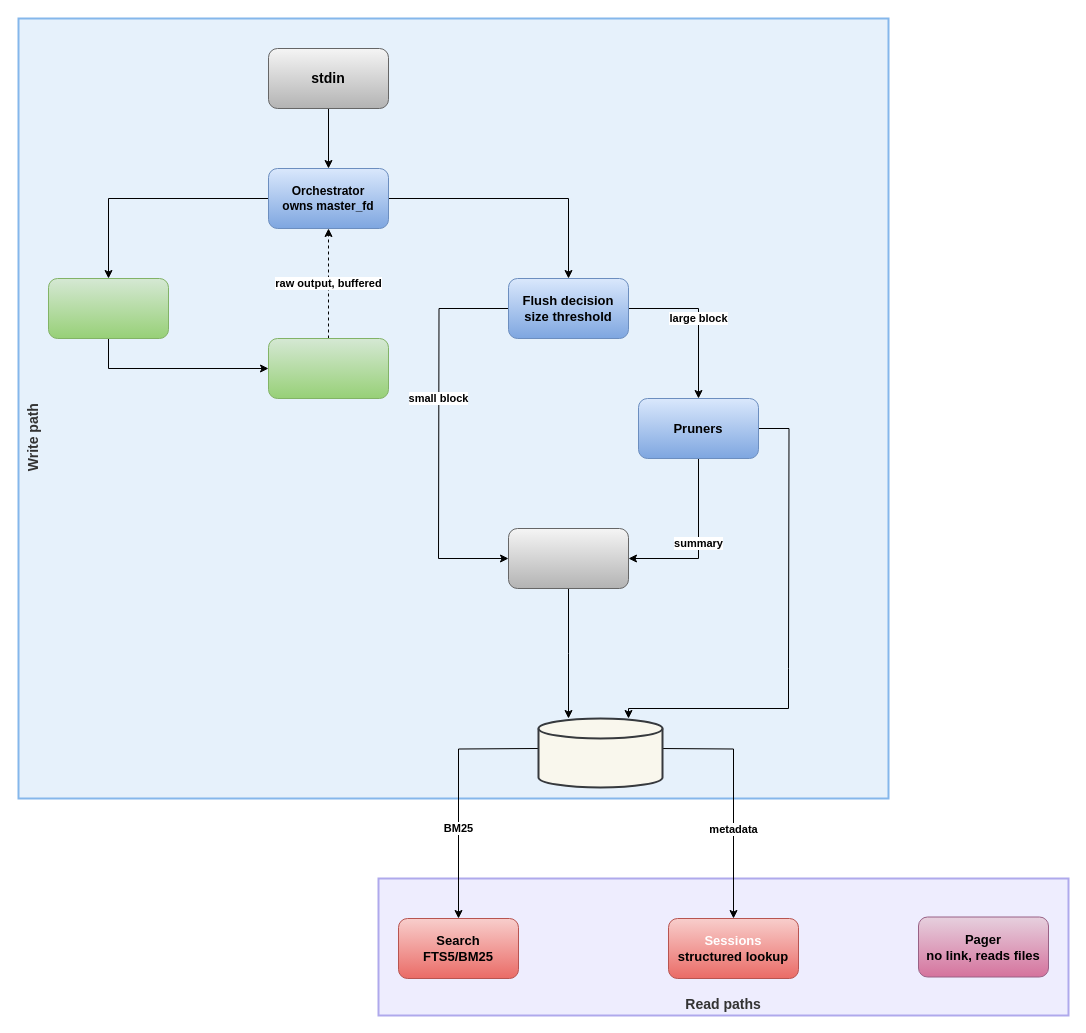
The diagram is 1086 pixels wide and 1033 high, and some of its shapes have lost their labels. The centre of each missing label's shape, as x and y in pixels:
"Agent runs in PTY" belongs at pixel 328 368.
"PTY pseudo-terminal" belongs at pixel 108 308.
"stdout" belongs at pixel 568 558.
"StorageEngine" belongs at pixel 600 752.
